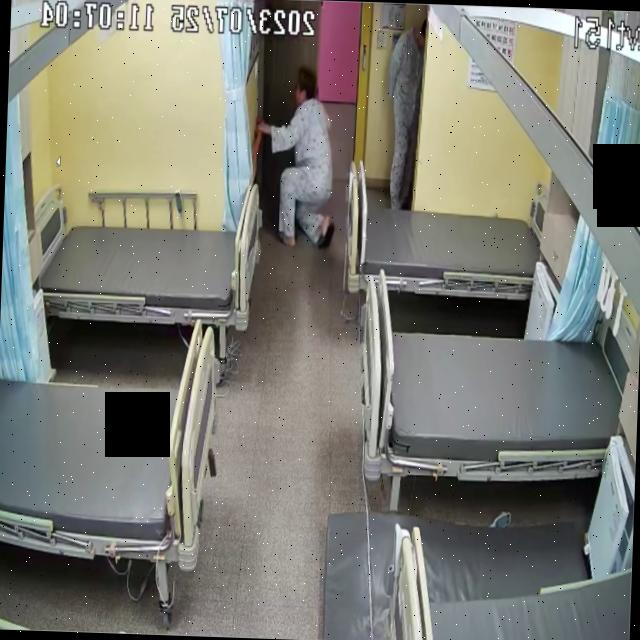bed: (0, 312, 219, 565), (358, 319, 626, 481), (24, 203, 262, 330), (347, 194, 539, 298)
danger: (252, 72, 338, 250)
patient: (250, 66, 340, 249), (384, 2, 424, 208)
